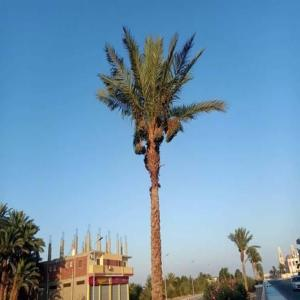palm tree: (95, 23, 228, 298), (0, 202, 45, 300), (227, 226, 253, 292), (245, 245, 262, 280)
